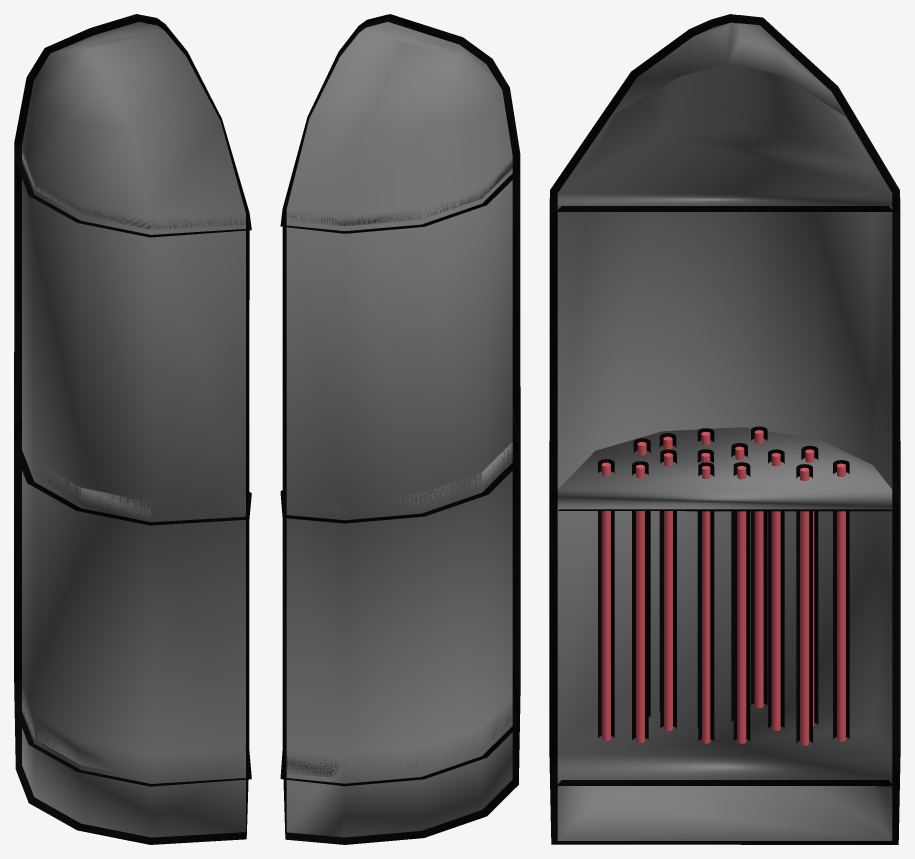
File: Varetas de controle.fbx
3 renders of one model, left to right at view 1: azimuth 30°, elevation 25°; view 2: azimuth 150°, elevation 25°; view 3: azimuth 270°, elevation 25°, orthographic. The views are drawn at different scales.
Visible parts, largest first — view 1: Suporte; view 2: Suporte; view 3: Suporte, Vareta de Combustivel.
Boxes of the visible parts, x1=… form: Suporte: x1=14, y1=14, x2=251, y2=844; Suporte: x1=280, y1=14, x2=520, y2=844; Suporte: x1=549, y1=14, x2=900, y2=844; Vareta de Combustivel: x1=598, y1=426, x2=849, y2=745.
Bounding box in the file's own units: 94.51 × 512 × 207.
